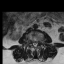CCS_normal: (34, 40, 36, 48)
LFS_stenosis: (38, 39, 40, 44)
LLS_normal: (36, 40, 38, 46)
RFS_normal: (30, 38, 32, 44)
RLS_normal: (32, 40, 34, 46)
